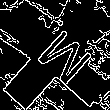M_SW: (21, 21, 89, 89)
